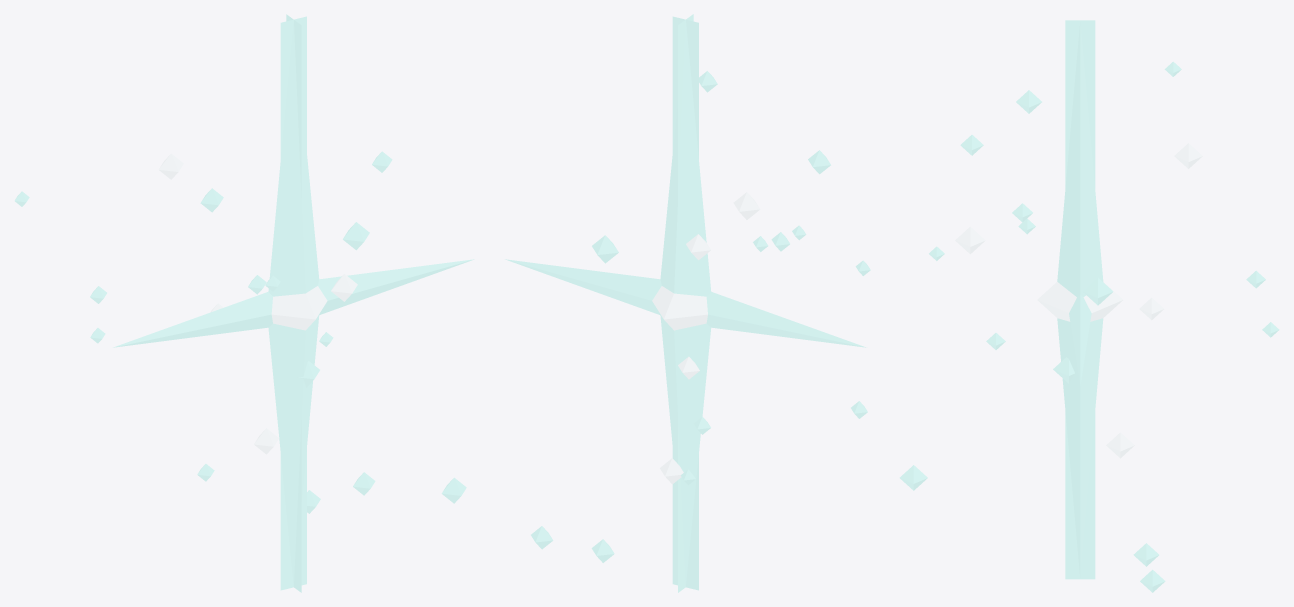
File: Star_05_A5.glb
3 renders of one model, left to right at view 1: azimuth 30°, elevation 25°; view 2: azimuth 150°, elevation 25°; view 3: azimuth 270°, elevation 25°, orthographic.
Parts seen in each view (by area): view 1: Star_05_A5; view 2: Star_05_A5; view 3: Star_05_A5.
Boxes of the visible parts, box(x1,y1,x2,y2) form: Star_05_A5: box(14, 14, 474, 592); Star_05_A5: box(505, 14, 870, 592); Star_05_A5: box(899, 20, 1279, 592).
Size of the model in its own units: 0.0272 by 0.0356 by 0.0219.
